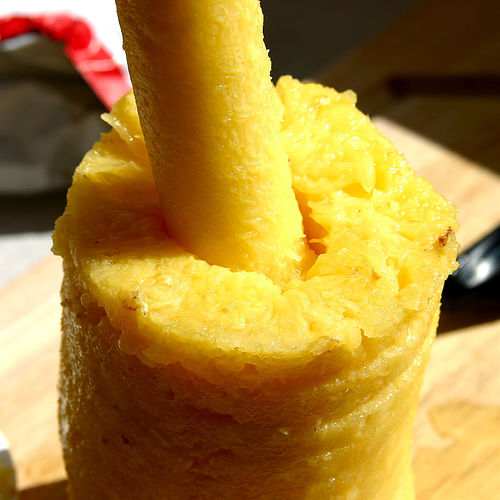pineapple: (51, 0, 460, 498)
